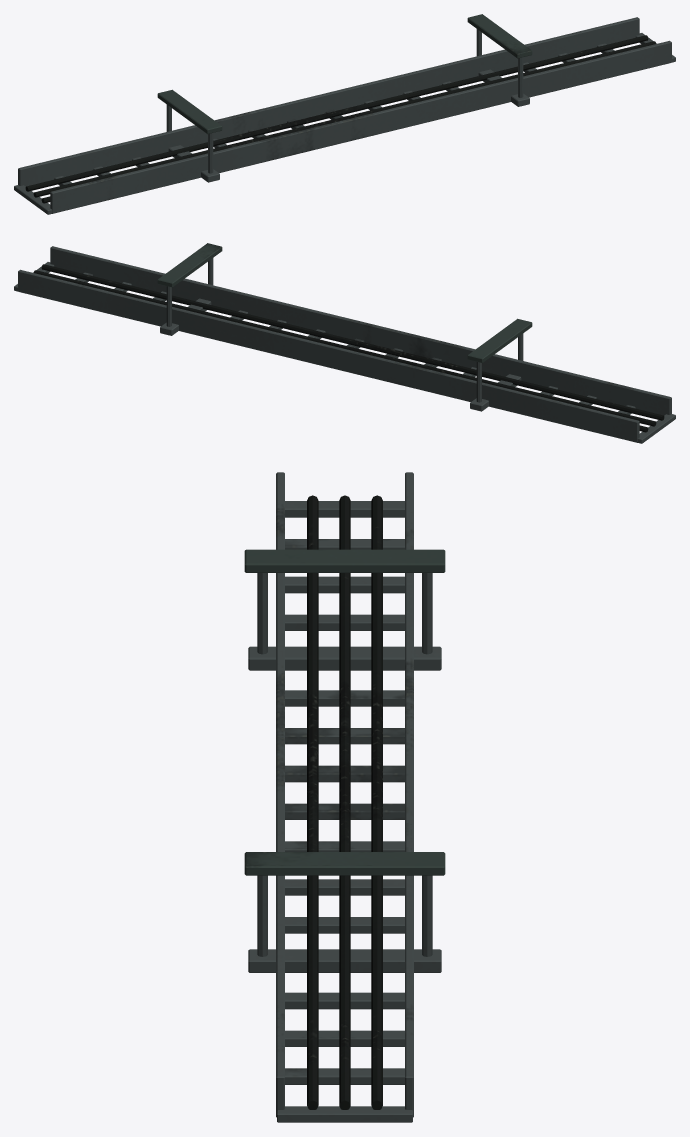
The model's file is cable_tray_4m.glb.
The picture shows the model from 3 angles, top to bottom: view 1: azimuth 30°, elevation 25°; view 2: azimuth 150°, elevation 25°; view 3: azimuth 270°, elevation 25°; orthographic projection. The views are drawn at different scales.
Visible parts, largest first — view 1: cable_tray_4m; view 2: cable_tray_4m; view 3: cable_tray_4m.
Part boxes in pixels (box(x1,y1,x2,y2)): cable_tray_4m: box(14, 14, 675, 214); cable_tray_4m: box(14, 243, 675, 443); cable_tray_4m: box(244, 472, 445, 1122).
Size of the model in its own units: 4.06 by 0.335 by 0.56.
1 material, 1 textured.
